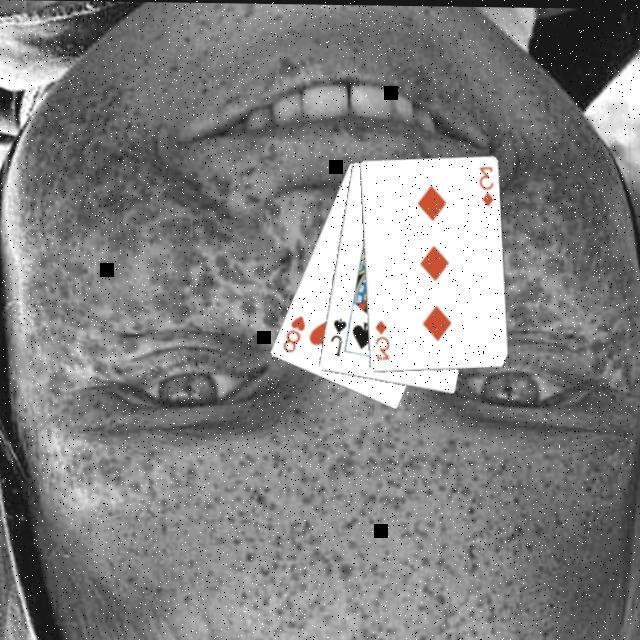3D: (370, 318, 392, 364), (475, 164, 495, 210)
8H: (278, 313, 307, 357)
JS: (326, 316, 348, 360)
